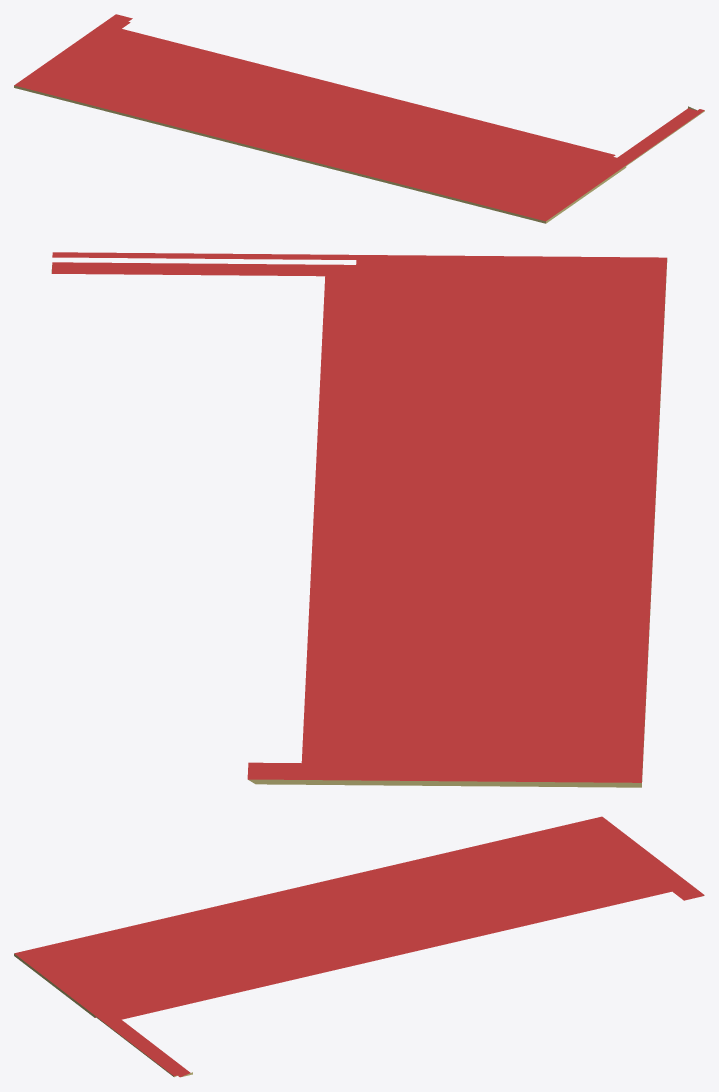
3 renders of one model, top to bottom at view 1: azimuth 30°, elevation 25°; view 2: azimuth 150°, elevation 25°; view 3: azimuth 270°, elevation 25°, orthographic. The views are drawn at different scales.
Size of the model in its own units: 21.47 by 24.14 by 0.1.
